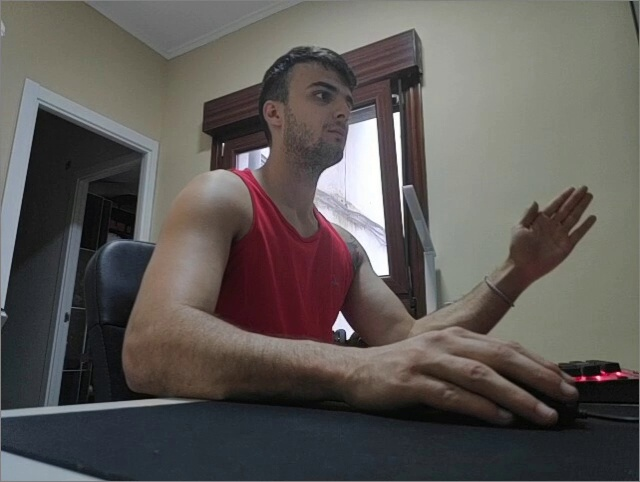Palm: (511, 183, 598, 281)
